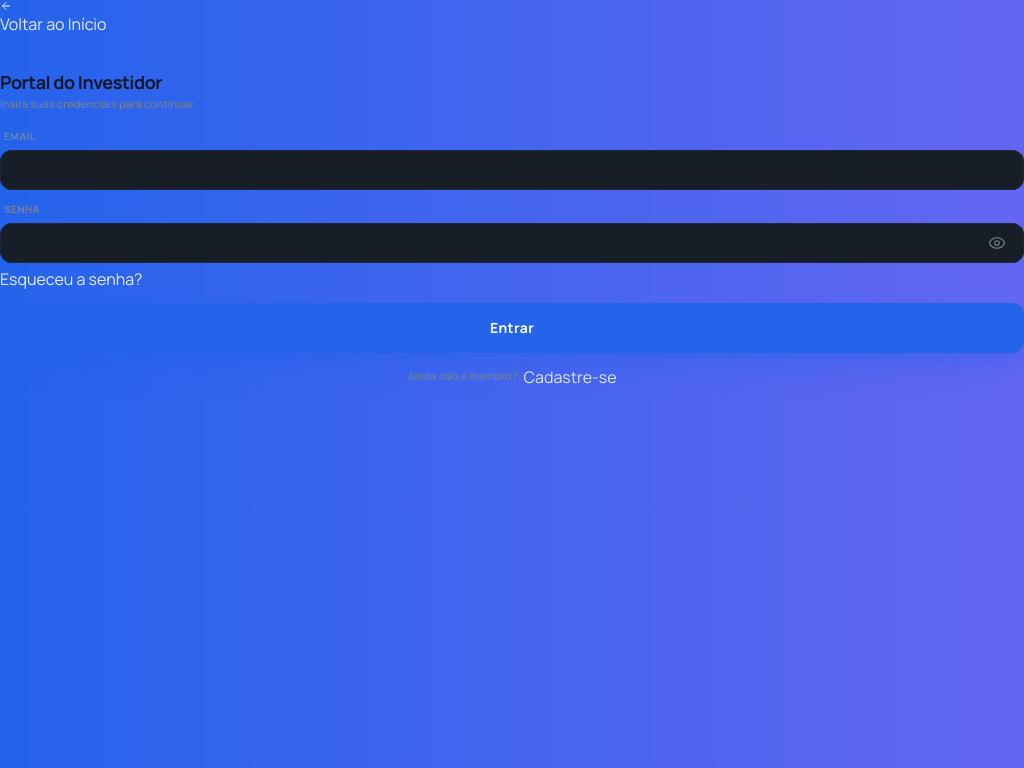
Test case: erro de servidor › exibe mensagem de erro quando authService.login rejeita
Type "user@email.com" into the field labelled "Email" at (512, 170), box top-left (0, 150), bottom-right (1023, 190)
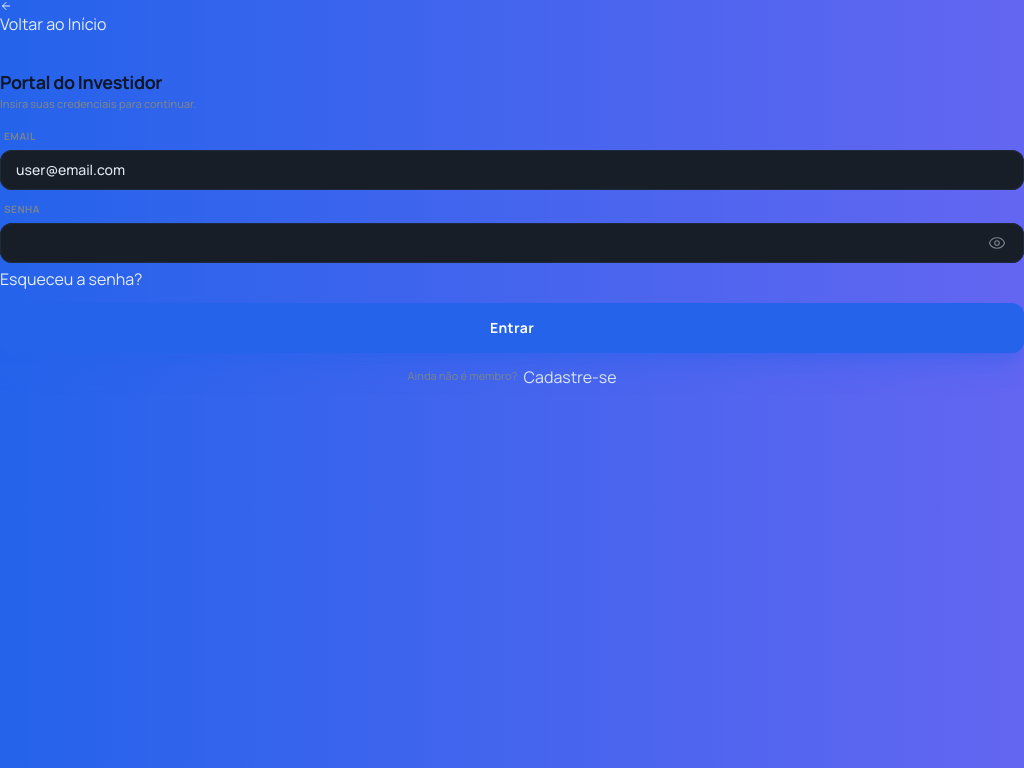
Type "Senha123!" into the password field labelled "Senha" at (512, 242), box top-left (0, 222), bottom-right (1023, 262)
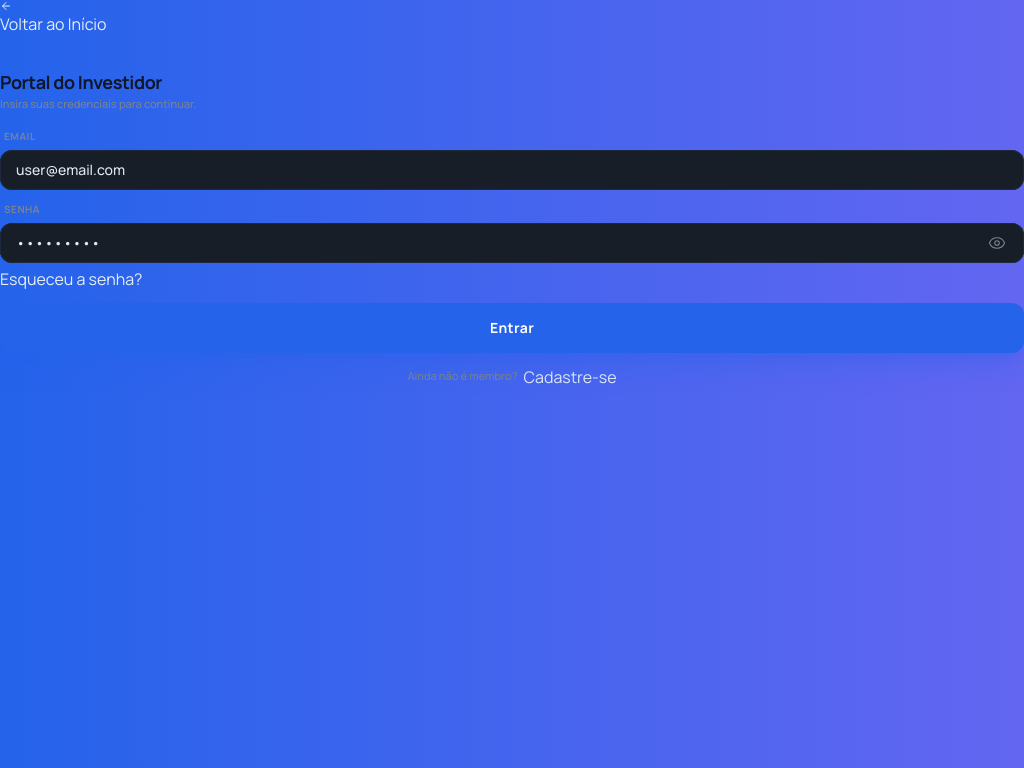
Submit the form, box top-left (0, 128), bottom-right (1023, 352)
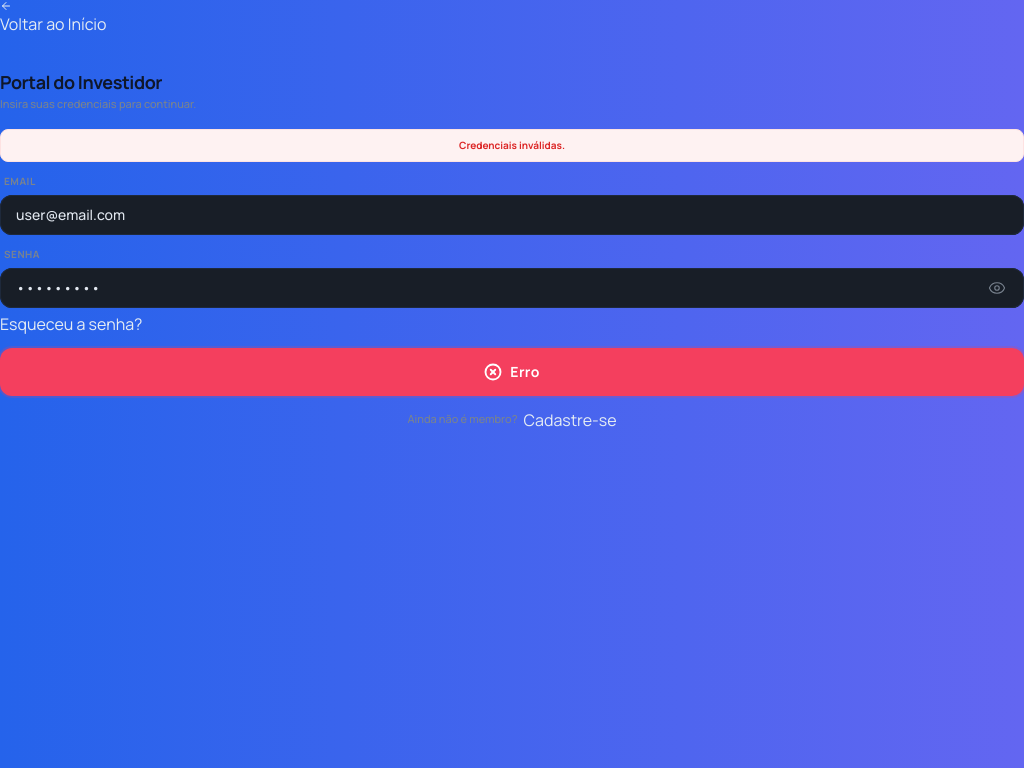
expect the text "Credenciais inválidas." is shown: met, box top-left (0, 128), bottom-right (1023, 162)
